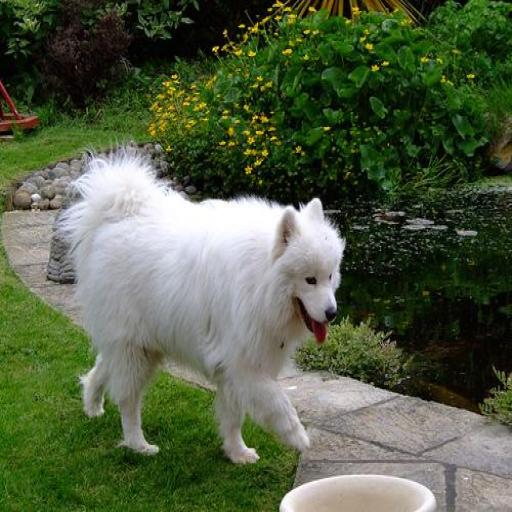dog_face: (272, 199, 339, 343)
